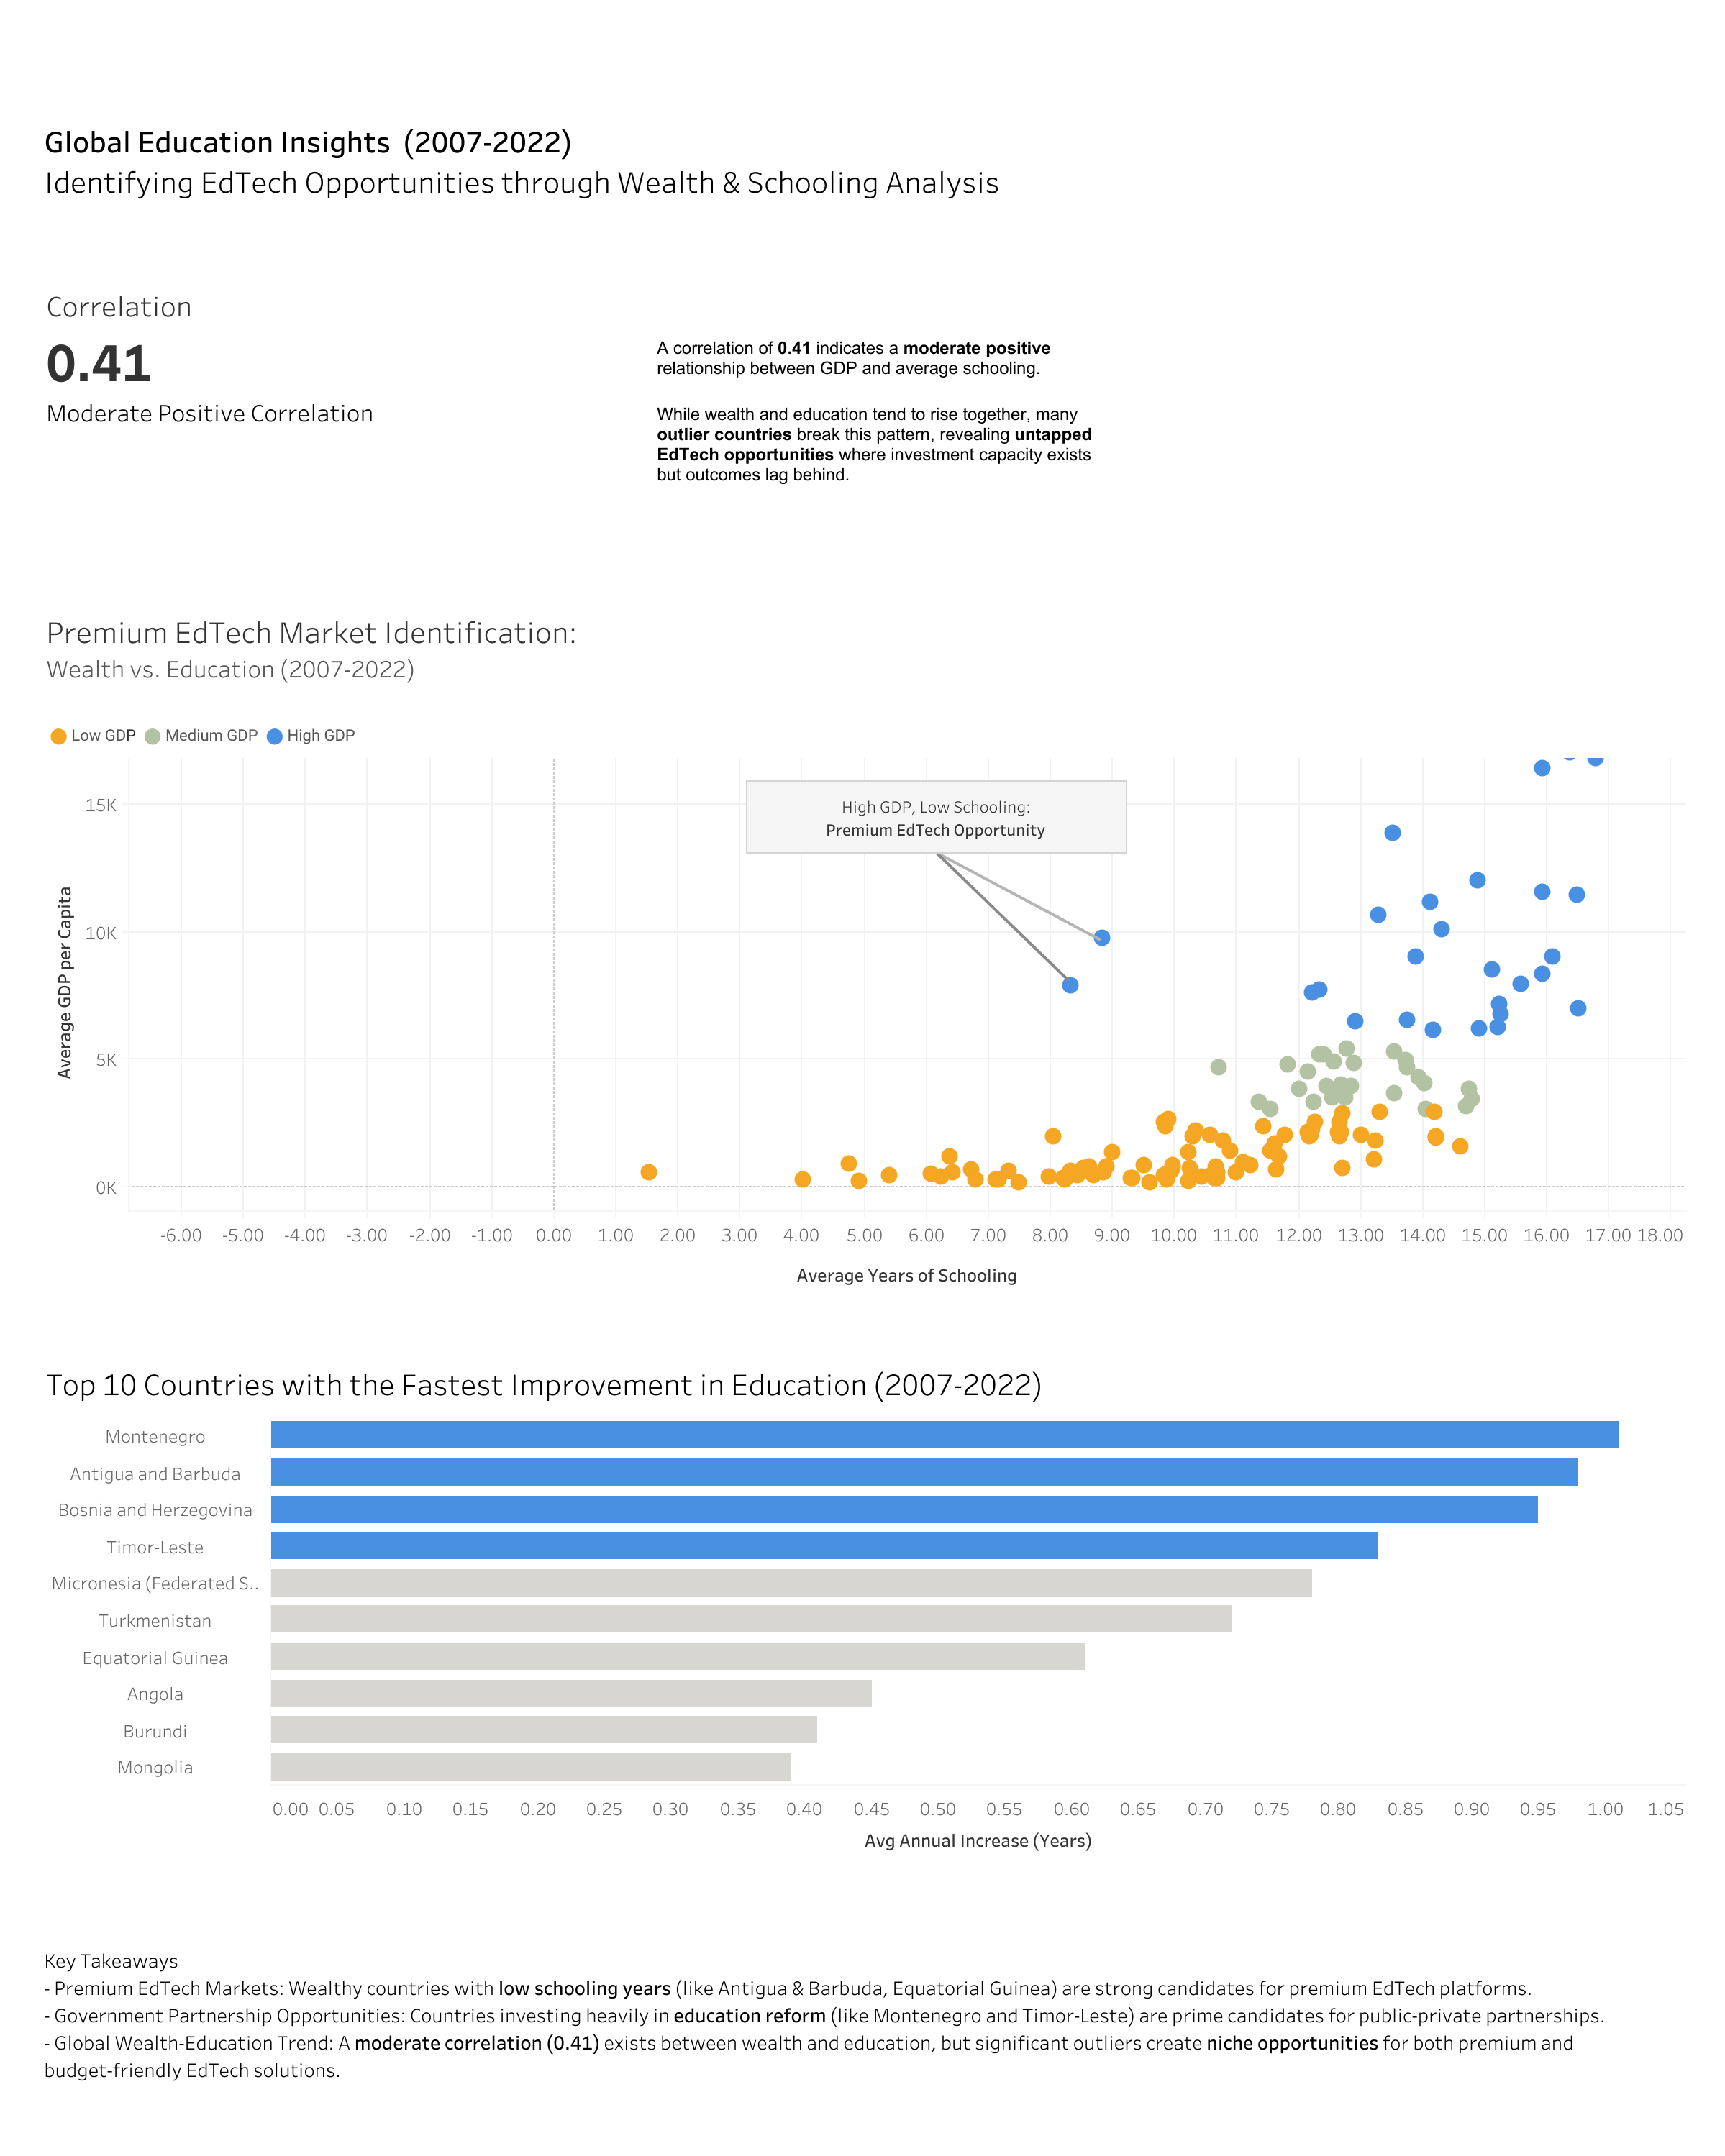

The dashboard page shown, as its layout file describes it:
{"tool":"tableau","page":{"name":"Dashboard 1","canvas":[1200,1500],"ordinal":0},"visuals":[{"type":"blank","box":[8,8,1184,32]},{"type":"text","box":[8,40,1184,133]},{"type":"worksheet","title":"Correlation","mark":"Automatic","box":[8,173,343,226]},{"type":"blank","box":[351,173,841,226]},{"type":"worksheet","title":"WealthVSEdu","mark":"Automatic","rows":["avg_GDP"],"cols":["avg_schooling"],"box":[8,399,1184,523]},{"type":"worksheet","title":"Top Improve","mark":"Bar","rows":["Country"],"cols":["avg_annual_increase"],"box":[8,922,1184,386]},{"type":"text","box":[8,1308,1184,184]}]}

Visuals, with their boxes in screenshot pixels (x1, y1, x2, y2), scaled from the page's 1200x1500 canvas onto the 1725x2156 screenshot:
blank: {"left": 12, "top": 12, "right": 1713, "bottom": 58}
text: {"left": 12, "top": 58, "right": 1713, "bottom": 249}
"Correlation" worksheet: {"left": 12, "top": 249, "right": 504, "bottom": 573}
blank: {"left": 504, "top": 249, "right": 1713, "bottom": 573}
"WealthVSEdu" worksheet: {"left": 12, "top": 573, "right": 1713, "bottom": 1325}
"Top Improve" worksheet (Bar marks): {"left": 12, "top": 1325, "right": 1713, "bottom": 1880}
text: {"left": 12, "top": 1880, "right": 1713, "bottom": 2144}
